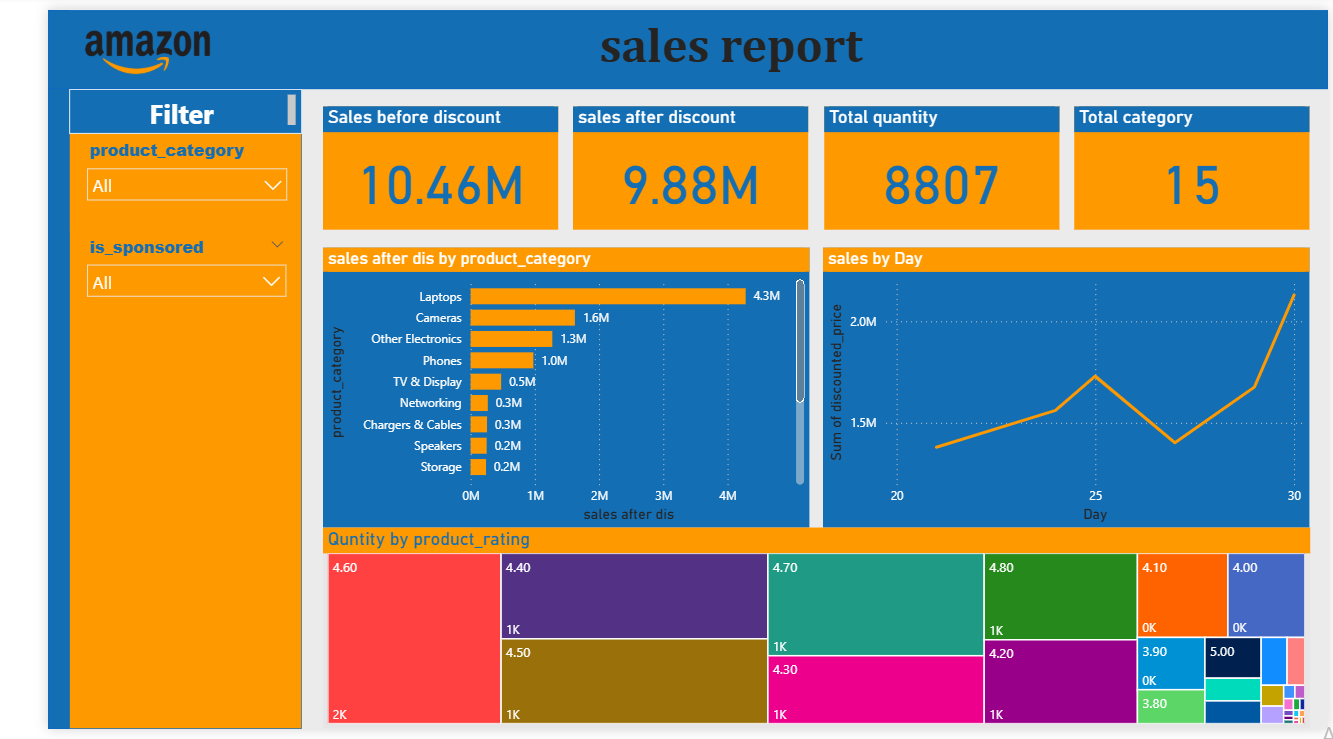

The dashboard page shown, as its layout file describes it:
{"tool":"powerbi","page":{"name":"amazon report","canvas":[1280,720],"ordinal":0},"visuals":[{"type":"shape","box":[10.8,66.5,242.7,653.9],"z":0},{"type":"shape","box":[0,1.5,21.6,718.8],"z":1000},{"type":"shape","box":[0,1.3,1280,78.9],"z":2000},{"type":"image","box":[21,2.6,156.4,78.9],"z":3000},{"type":"textbox","box":[481,2.6,403.4,77.5],"z":4000},{"type":"card","title":"sales after discount","fields":{"Values":["amazon_products_sales_data_cleaned.sales"]},"box":[525.2,97.2,235.2,123.5],"z":5000},{"type":"card","title":"Total category","fields":{"Values":["amazon_products_sales_data_cleaned.categores"]},"box":[1026.4,97.2,235.2,123.5],"z":6000},{"type":"card","title":"Total quantity","fields":{"Values":["amazon_products_sales_data_cleaned.Quntity"]},"box":[775.8,97.2,235.2,123.5],"z":7000},{"type":"card","title":"Sales before discount","fields":{"Values":["amazon_products_sales_data_cleaned.sales after dis"]},"box":[274.7,97.2,235.2,123.5],"z":8000},{"type":"textbox","box":[21,80.2,232.6,44.7],"z":9000},{"type":"barChart","fields":{"Y":["amazon_products_sales_data_cleaned.sales after dis"],"Category":["amazon_products_sales_data_cleaned.product_category"]},"box":[274.7,239.2,486.2,279.9],"z":10000},{"type":"lineChart","title":"sales by Day","fields":{"Y":["Sum(amazon_products_sales_data_cleaned.discounted_price)"],"Category":["amazon_products_sales_data_cleaned.data_collected_at.Variation.Date Hierarchy.Month","amazon_products_sales_data_cleaned.data_collected_at.Variation.Date Hierarchy.Day"]},"box":[775.4,239.2,486.2,279.9],"z":11000},{"type":"slicer","fields":{"Values":["amazon_products_sales_data_cleaned.product_category"]},"box":[28.9,124.8,220.8,95.9],"z":12000},{"type":"slicer","fields":{"Values":["amazon_products_sales_data_cleaned.is_sponsored"]},"box":[28.9,220.8,219.5,95.9],"z":13000},{"type":"treemap","fields":{"Group":["amazon_products_sales_data_cleaned.product_rating","amazon_products_sales_data_cleaned.product_category"],"Values":["amazon_products_sales_data_cleaned.Quntity"]},"box":[274.7,519.1,986.9,201.1],"z":14000}]}

Visuals, with their boxes in screenshot pixels (x1, y1, x2, y2), scaled from the page's 1280x720 canvas onto the 1333x739 screenshot:
shape: l=11, t=68, r=264, b=738
shape: l=0, t=2, r=22, b=738
shape: l=0, t=1, r=1332, b=82
image: l=22, t=3, r=185, b=84
textbox: l=501, t=3, r=921, b=82
"sales after discount" card: l=547, t=100, r=792, b=227
"Total category" card: l=1069, t=100, r=1314, b=227
"Total quantity" card: l=808, t=100, r=1053, b=227
"Sales before discount" card: l=286, t=100, r=531, b=227
textbox: l=22, t=82, r=264, b=128
barChart - amazon_products_sales_data_cleaned.sales after dis x amazon_products_sales_data_cleaned.product_category: l=286, t=246, r=792, b=533
"sales by Day" lineChart: l=808, t=246, r=1314, b=533
slicer - amazon_products_sales_data_cleaned.product_category: l=30, t=128, r=260, b=227
slicer - amazon_products_sales_data_cleaned.is_sponsored: l=30, t=227, r=259, b=325
treemap - amazon_products_sales_data_cleaned.product_rating x amazon_products_sales_data_cleaned.product_category: l=286, t=533, r=1314, b=738
